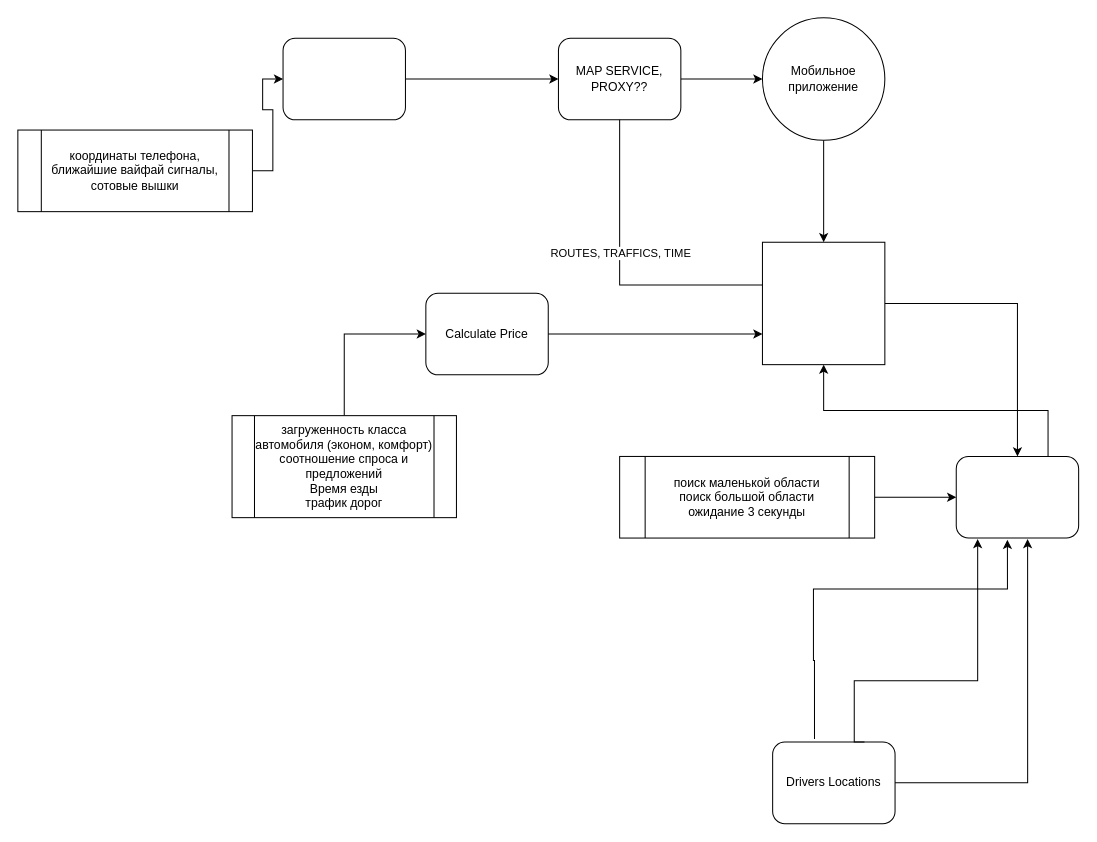
This 1097x842 diagram has some shape labels left out. Each missing label, with the centre of its shape:
GeoPositions: point 343,78
GraphQL: point 823,303
Search Drivers: point 1017,496
